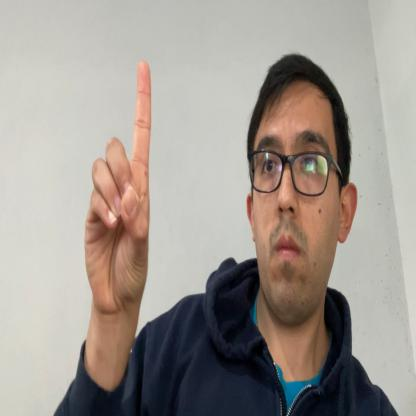D: (84, 64, 151, 307)
